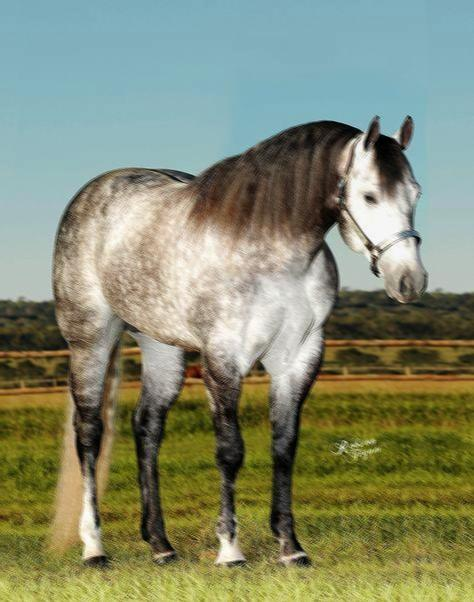horse: (41, 113, 428, 570)
